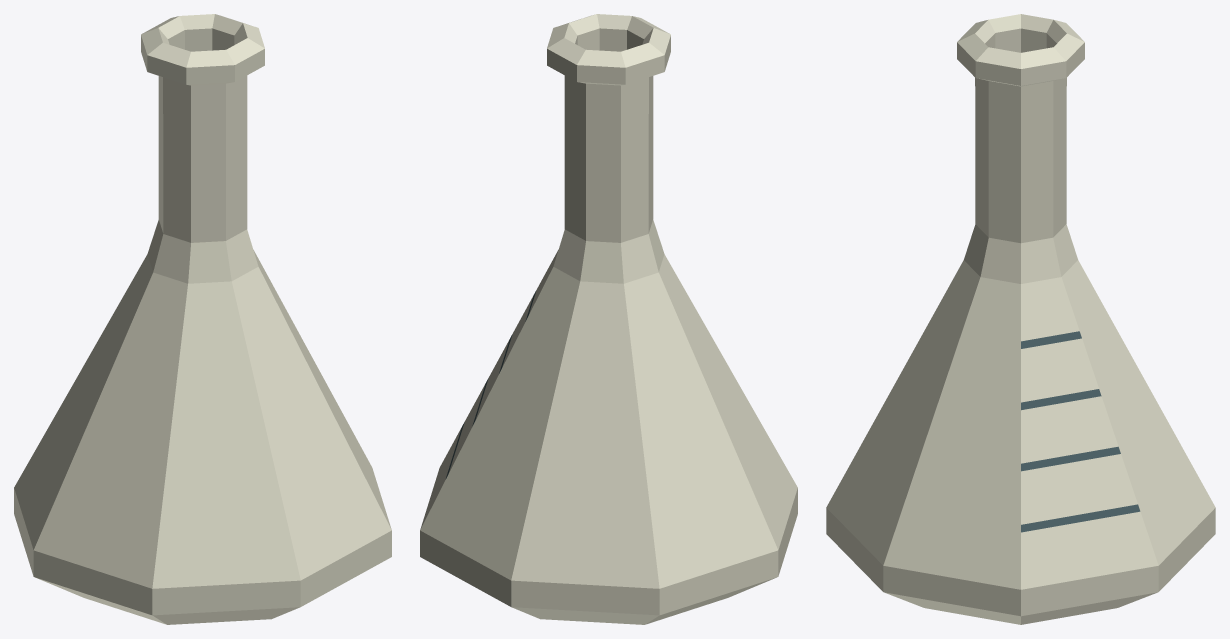
The model's file is laboratory-flask.glb.
3 views of the same model, side by side, from view 1: azimuth 30°, elevation 25°; view 2: azimuth 150°, elevation 25°; view 3: azimuth 270°, elevation 25° (orthographic).
Parts seen in each view (by area): view 1: Beaker_Icosphere; view 2: Beaker_Icosphere; view 3: Beaker_Icosphere.
Part boxes in pixels (bbox=[...]): Beaker_Icosphere: bbox=[14, 14, 391, 624]; Beaker_Icosphere: bbox=[420, 14, 797, 624]; Beaker_Icosphere: bbox=[826, 14, 1215, 624].
Size of the model in its own units: 10 by 15.12 by 10.
